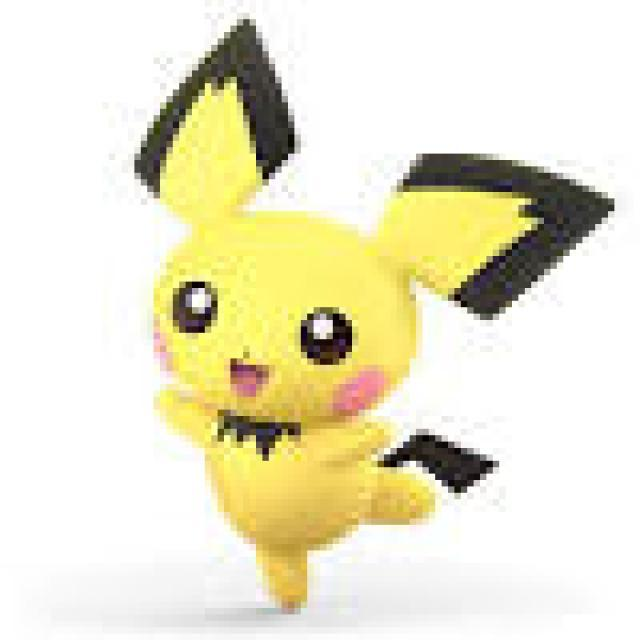pichu: (116, 17, 616, 628)
